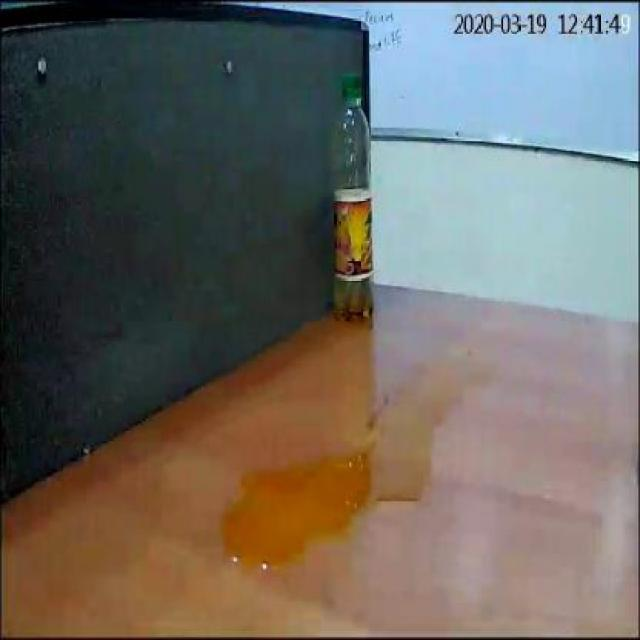spill: (214, 360, 482, 578)
